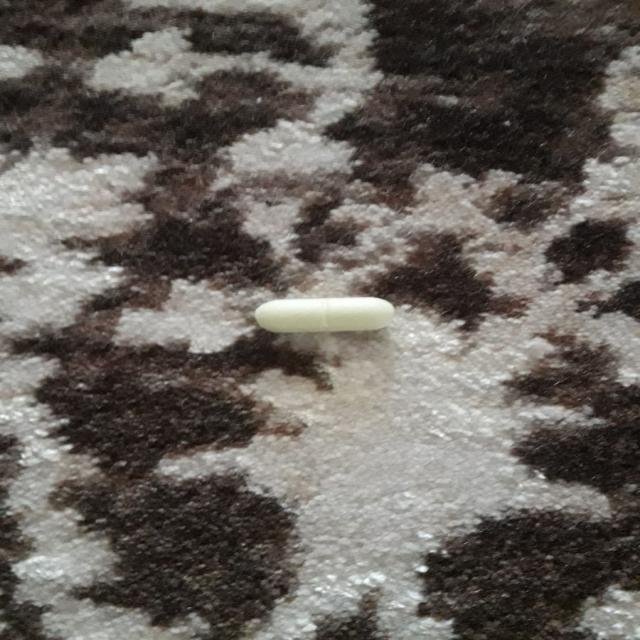pills: (245, 278, 416, 342)
